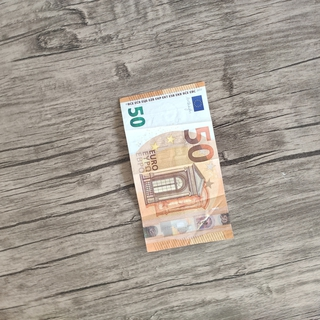50EUROFront: (117, 79, 235, 253)
